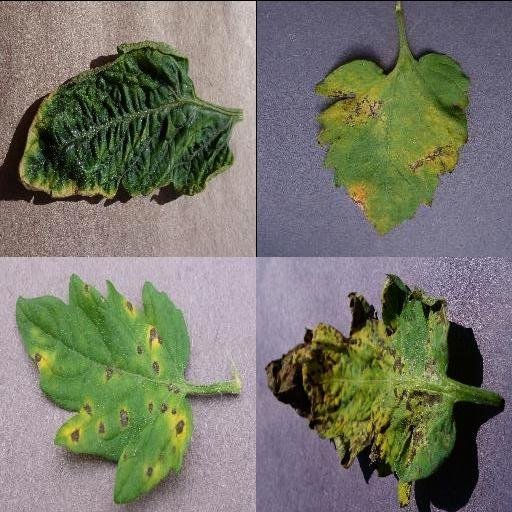Septoria: (263, 272, 459, 504), (16, 275, 194, 501), (312, 47, 474, 237)
Yellow Leaf Curl Virus: (16, 40, 236, 198)
